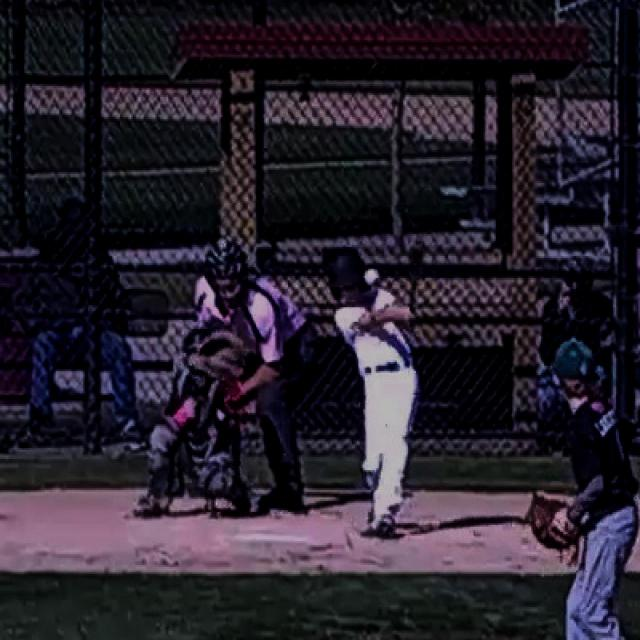baseball: (364, 269, 378, 285)
